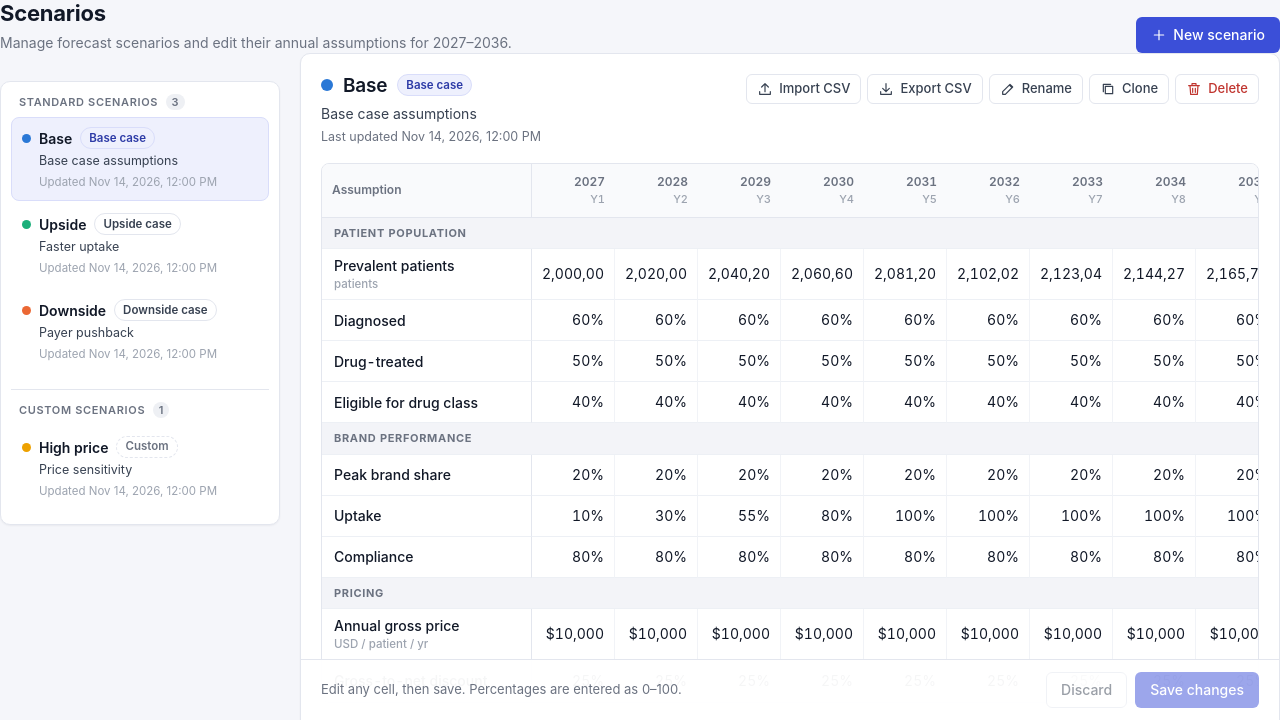
Test: ScenariosPage – scenario actions › renames using the saved inputs, not unsaved grid edits
The width and height of the screenshot is (1280, 720).
Expected: the table is shown, [322,164,1259,702]
Replace the text in the field named "Diagnosed, 2027" with "70". click: {"x": 573, "y": 320}
box: [532,300,614,340]
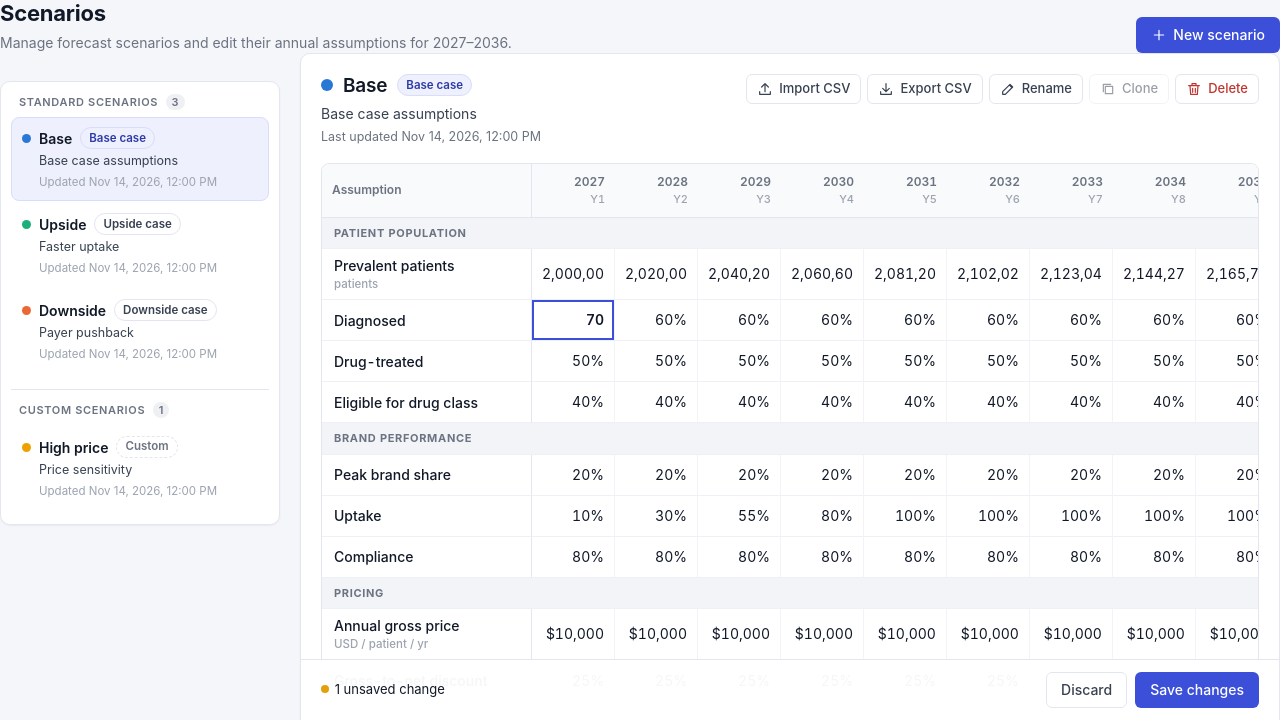
Click the button "Rename". click: {"x": 1036, "y": 88}
box: [989,74,1083,104]
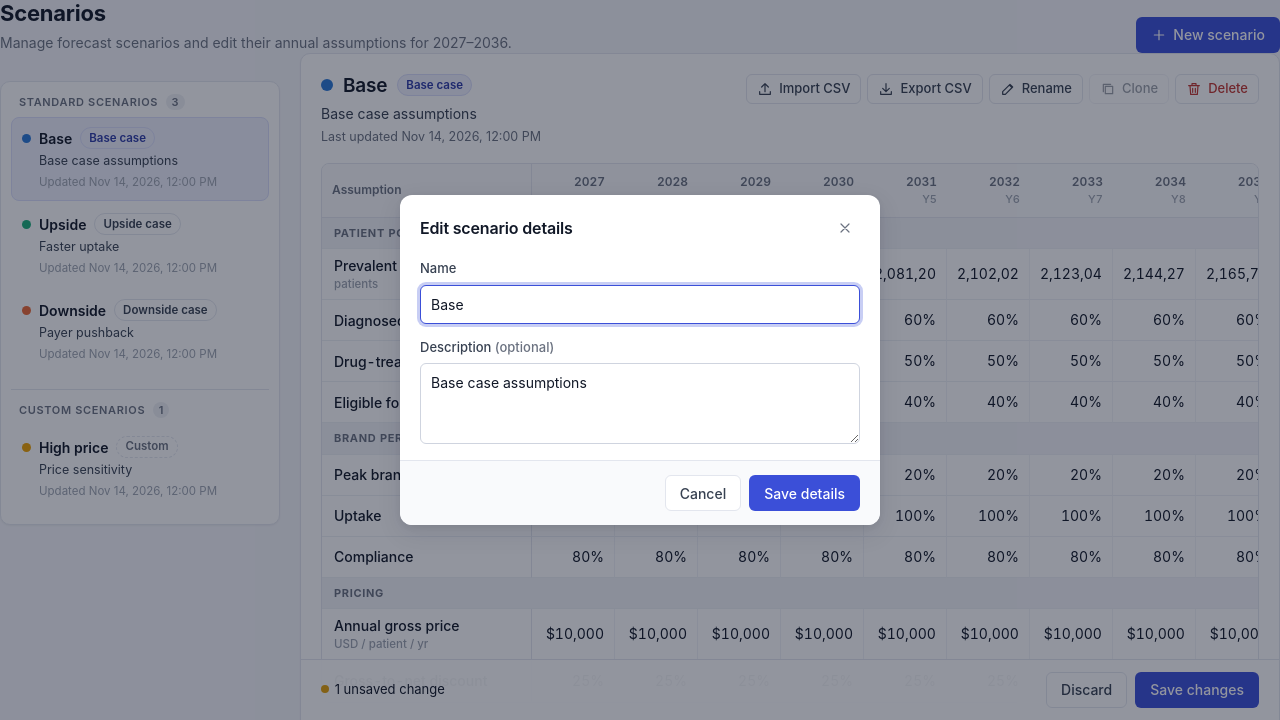
Replace the text in the field labelled "Name" with "Base 2026". click: {"x": 640, "y": 304}
box: [420,284,860,324]
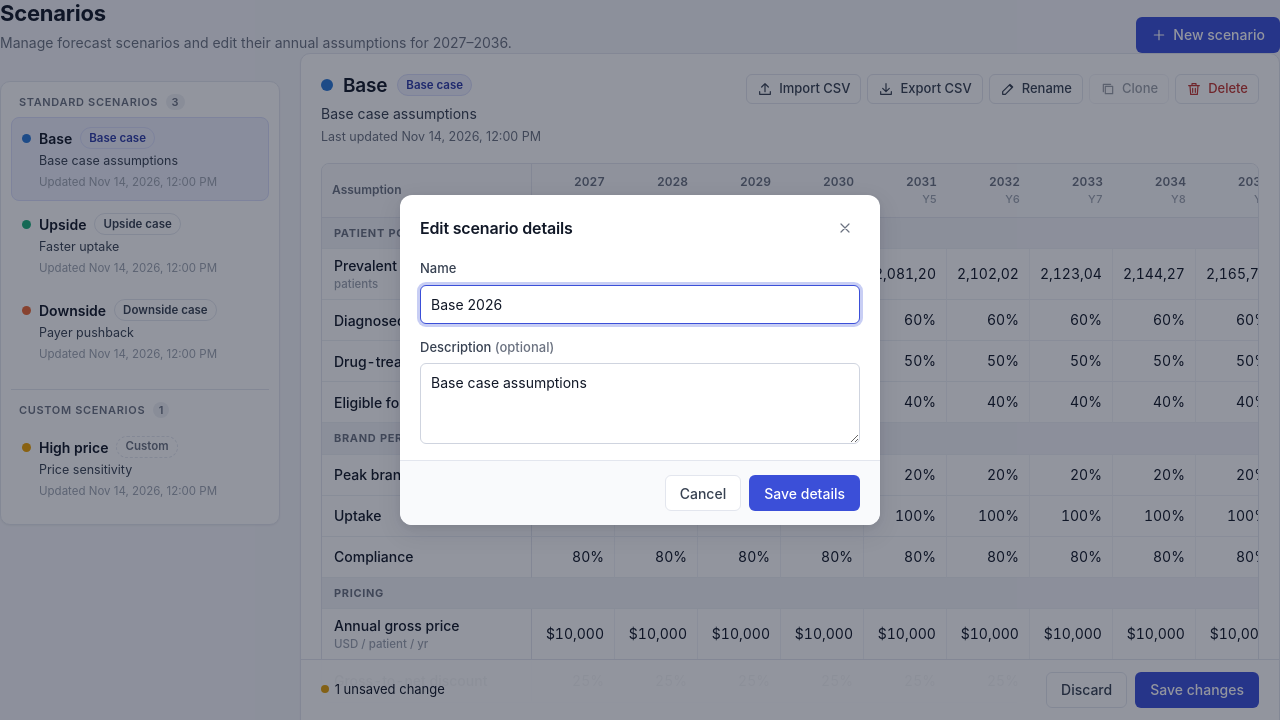
Click the button "Save details". click: {"x": 805, "y": 493}
box: [749,475,860,511]
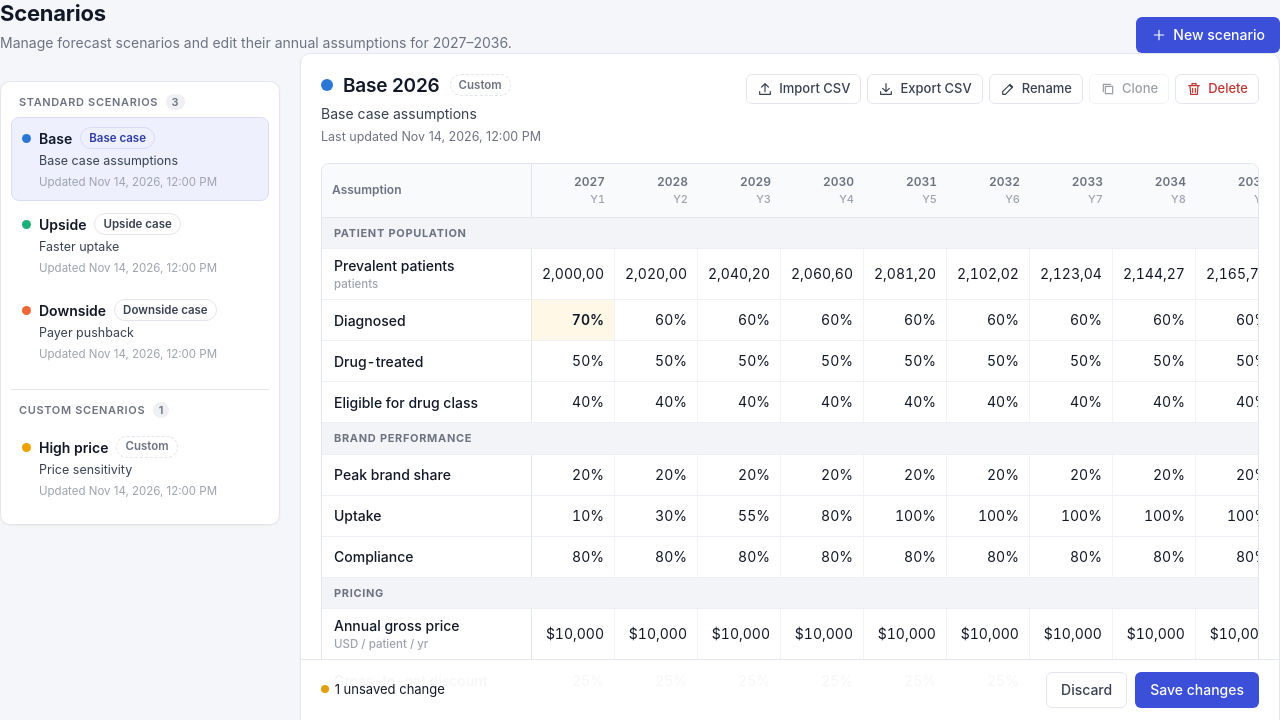
Expected: the text "Base case assumptions" below "Standard scenarios" is shown, [39,153,178,168]
Expected: the heading "Base 2026" is shown, [343,74,440,97]
